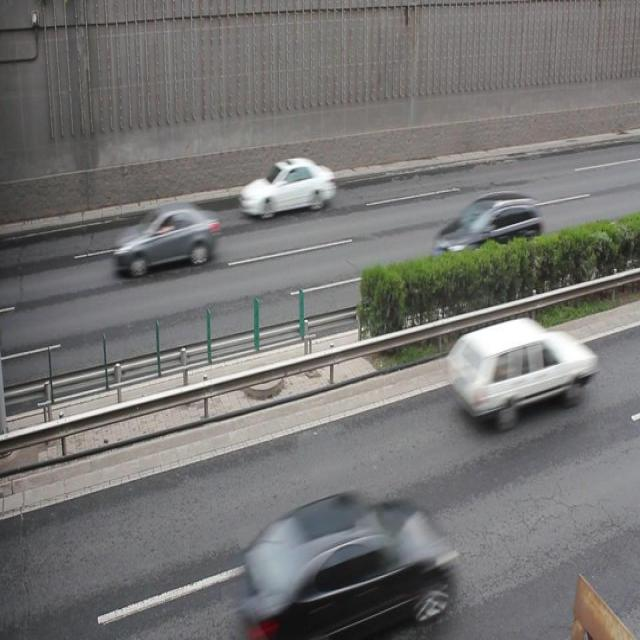car: (236, 489, 454, 640), (443, 316, 588, 424), (430, 190, 541, 263), (114, 202, 217, 274), (240, 157, 332, 216)
